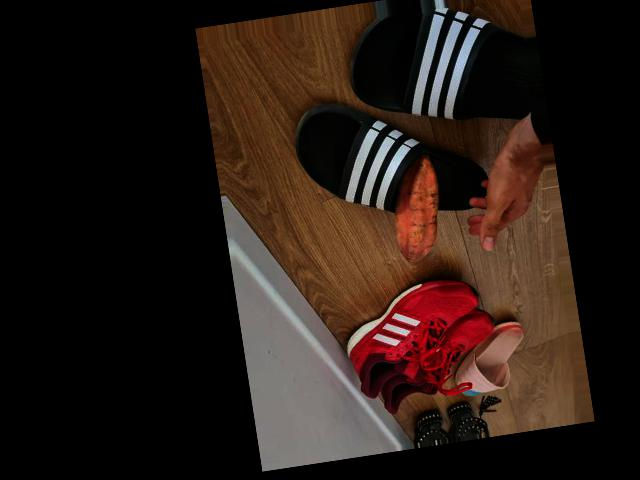sweet_potato: (386, 149, 446, 265)
